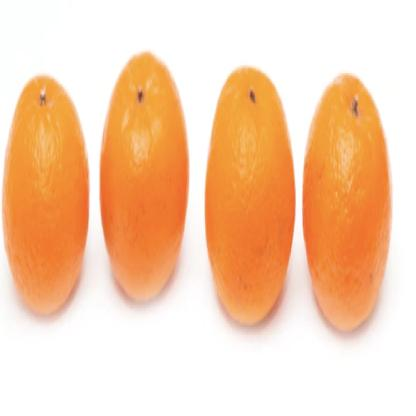fresh: (1, 60, 397, 347)
